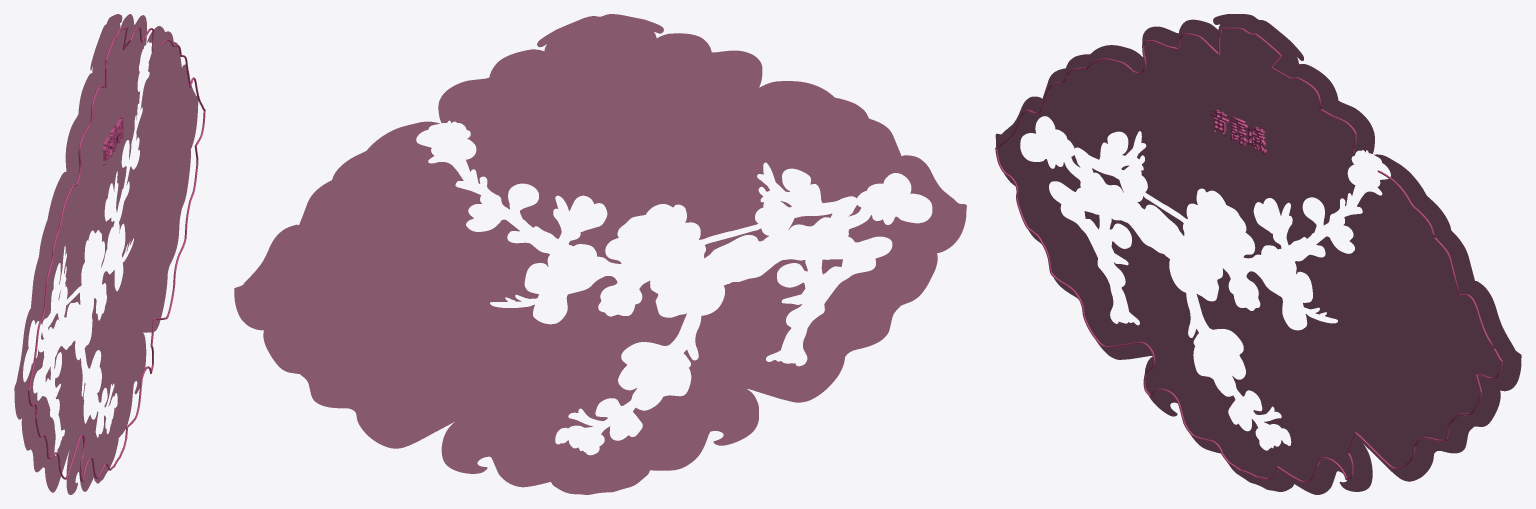
The model's file is purple2_engraved_metalflwr.glb.
The picture shows the model from 3 angles, left to right: view 1: azimuth 30°, elevation 25°; view 2: azimuth 150°, elevation 25°; view 3: azimuth 270°, elevation 25°; orthographic projection. The views are drawn at different scales.
Visible parts, largest first — view 1: MA_Artboard 2.svg, Curve, WORDS; view 2: MA_Artboard 2.svg; view 3: MA_Artboard 2.svg, Curve, WORDS.
Boxes of the visible parts, x1,y1,x2,y2 form: MA_Artboard 2.svg: (14, 14, 198, 494); Curve: (28, 26, 205, 481); WORDS: (102, 116, 123, 164); MA_Artboard 2.svg: (234, 14, 966, 494); MA_Artboard 2.svg: (995, 14, 1521, 494); Curve: (995, 27, 1502, 483); WORDS: (1210, 109, 1266, 154).
Size of the model in its own units: 1.32 by 1.3 by 1.33.
